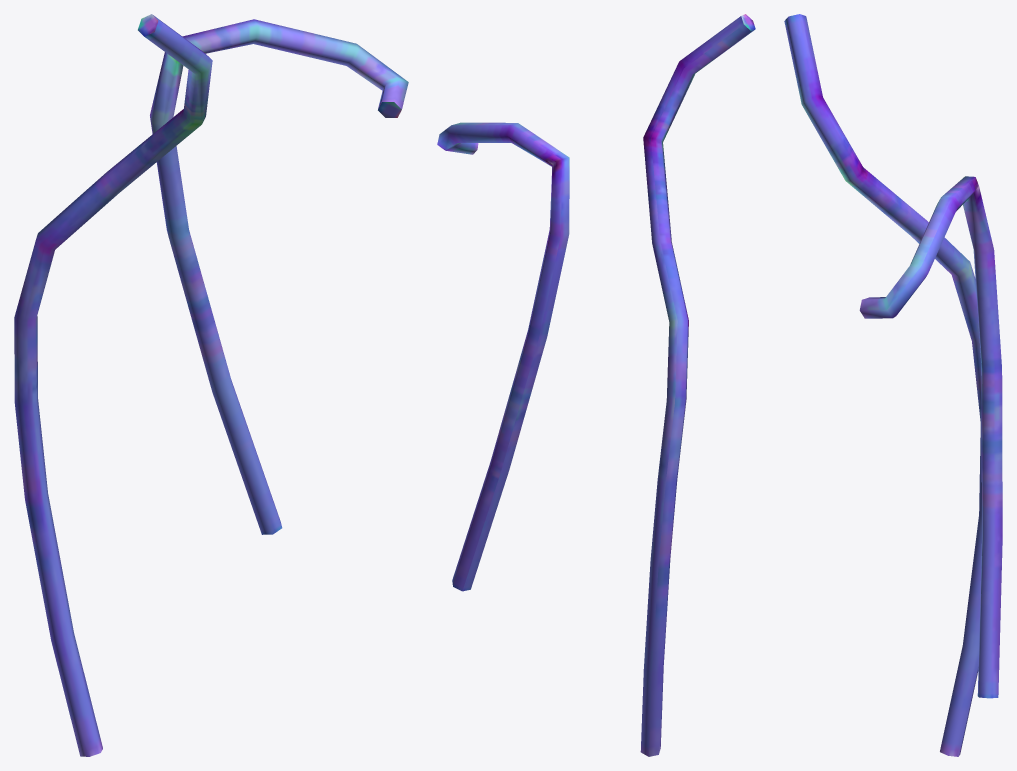
The model's file is debris_01_cables.glb.
The picture shows the model from 3 angles, left to right: view 1: azimuth 30°, elevation 25°; view 2: azimuth 150°, elevation 25°; view 3: azimuth 270°, elevation 25°; orthographic projection. The views are drawn at different scales.
Parts seen in each view (by area): view 1: debris_01_cables; view 2: debris_01_cables; view 3: debris_01_cables.
Boxes of the visible parts, box(x1,y1,x2,y2) form: debris_01_cables: box(14, 14, 408, 756); debris_01_cables: box(437, 14, 755, 756); debris_01_cables: box(784, 14, 1002, 756).
Size of the model in its own units: 0.8236 by 1.86 by 0.5043.
1 material, 1 textured.
